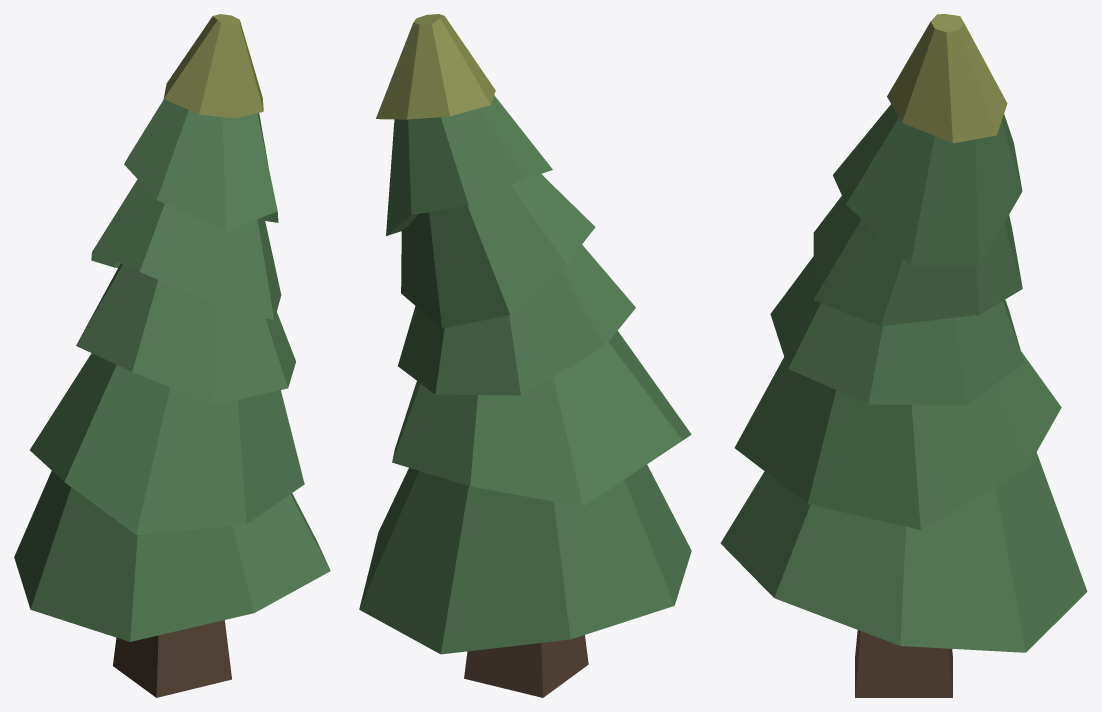
The model's file is tree1_0.fbx.
3 renders of one model, left to right at view 1: azimuth 30°, elevation 25°; view 2: azimuth 150°, elevation 25°; view 3: azimuth 270°, elevation 25°, orthographic. The views are drawn at different scales.
Visible parts, largest first — view 1: Cylinder.001, Cylinder, Cylinder.002, Cylinder.003, Cylinder.004, Cylinder.005, Plane; view 2: Cylinder, Cylinder.001, Cylinder.003, Cylinder.002, Cylinder.004, Cylinder.005, Plane; view 3: Cylinder, Cylinder.001, Cylinder.004, Cylinder.002, Cylinder.003, Cylinder.005, Plane.
Part boxes in pixels (<box>): Cylinder.001: <box>30,353,304,534</box>; Cylinder: <box>14,471,330,641</box>; Cylinder.002: <box>76,264,295,404</box>; Cylinder.003: <box>91,179,281,320</box>; Cylinder.004: <box>124,99,278,231</box>; Cylinder.005: <box>163,14,263,118</box>; Plane: <box>113,620,231,697</box>; Cylinder: <box>359,464,691,654</box>; Cylinder.001: <box>392,330,691,506</box>; Cylinder.003: <box>401,174,595,328</box>; Cylinder.002: <box>398,245,635,395</box>; Cylinder.004: <box>386,95,552,235</box>; Cylinder.005: <box>376,14,495,119</box>; Plane: <box>464,635,588,697</box>; Cylinder: <box>720,452,1087,652</box>; Cylinder.001: <box>734,351,1061,529</box>; Cylinder.004: <box>833,104,1022,265</box>; Cylinder.002: <box>770,256,1024,404</box>; Cylinder.003: <box>813,196,1022,326</box>; Cylinder.005: <box>887,14,1007,143</box>; Plane: <box>855,630,952,697</box>.
Size of the model in its own units: 399 by 835 by 398.
